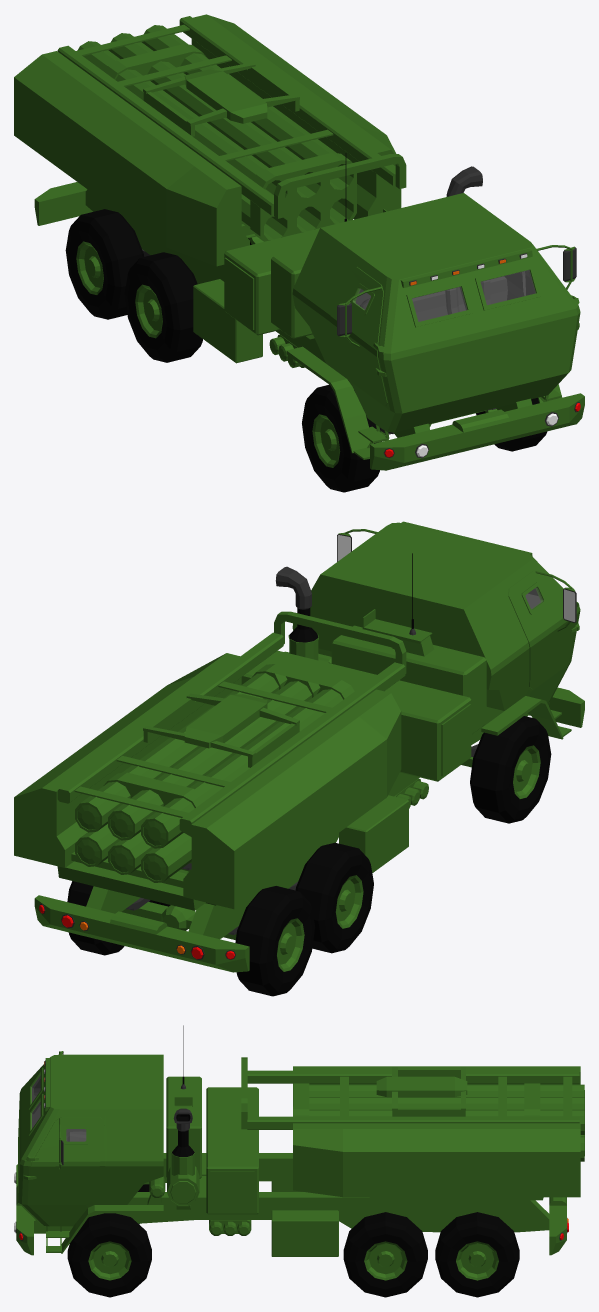
3 renders of one model, top to bottom at view 1: azimuth 30°, elevation 25°; view 2: azimuth 150°, elevation 25°; view 3: azimuth 270°, elevation 25°, orthographic. The views are drawn at different scales.
Visible parts, largest first — view 1: Plane, Cube, Cylinder.001, Cylinder.002, Cylinder.006, Plane.001, Cylinder.004, Plane.003, Plane.002, Plane.004, Cylinder.007; view 2: Plane, Cube, Cylinder.001, Cylinder.006, Cylinder.004, Cylinder.002, Plane.001, Cylinder.003; view 3: Plane, Cube, Cylinder.001, Cylinder.005, Cylinder.003, Cylinder.007, Plane.004, Cube.001, Plane.003.
Boxes of the visible parts, x1,y1,x2,y2 form: Plane: [34, 153, 584, 470]; Cube: [14, 14, 406, 266]; Cylinder.001: [77, 25, 356, 241]; Cylinder.002: [124, 252, 202, 362]; Cylinder.006: [65, 209, 144, 319]; Plane.001: [330, 267, 387, 405]; Cylinder.004: [302, 384, 381, 492]; Plane.003: [355, 270, 535, 321]; Plane.002: [413, 270, 535, 320]; Plane.004: [525, 245, 576, 298]; Cylinder.007: [476, 398, 547, 451]; Plane: [34, 521, 584, 972]; Cube: [14, 611, 406, 910]; Cylinder.001: [75, 664, 354, 882]; Cylinder.006: [235, 886, 314, 996]; Cylinder.004: [470, 716, 551, 823]; Cylinder.002: [295, 842, 373, 953]; Plane.001: [508, 570, 577, 689]; Cylinder.003: [67, 881, 124, 955]; Plane: [14, 1025, 568, 1256]; Cube: [241, 1057, 580, 1197]; Cylinder.001: [293, 1083, 584, 1161]; Cylinder.005: [343, 1212, 427, 1297]; Cylinder.003: [435, 1212, 519, 1297]; Cylinder.007: [67, 1213, 151, 1297]; Plane.004: [29, 1117, 104, 1203]; Cube.001: [369, 1197, 543, 1200]; Plane.003: [32, 1075, 86, 1141].
Size of the model in its own units: 339 by 388 by 900.
